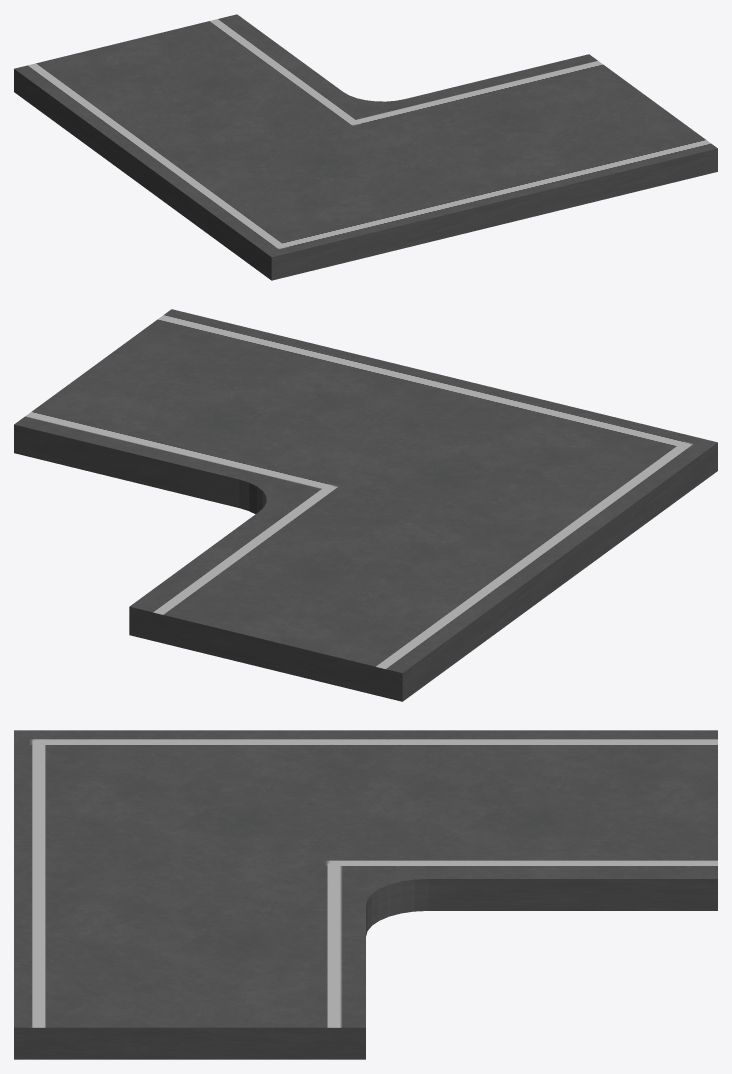
Rendered from rua_curva_direita_Texturizada.fbx.
The picture shows the model from 3 angles, top to bottom: view 1: azimuth 30°, elevation 25°; view 2: azimuth 150°, elevation 25°; view 3: azimuth 270°, elevation 25°; orthographic projection. The views are drawn at different scales.
Visible parts, largest first — view 1: rua curva direita; view 2: rua curva direita; view 3: rua curva direita.
Part boxes in pixels (<box>): rua curva direita: <box>14,14,717,280</box>; rua curva direita: <box>14,309,717,701</box>; rua curva direita: <box>14,730,717,1059</box>.
Size of the model in its own units: 400 by 20 by 400.
1 material, 1 textured.
